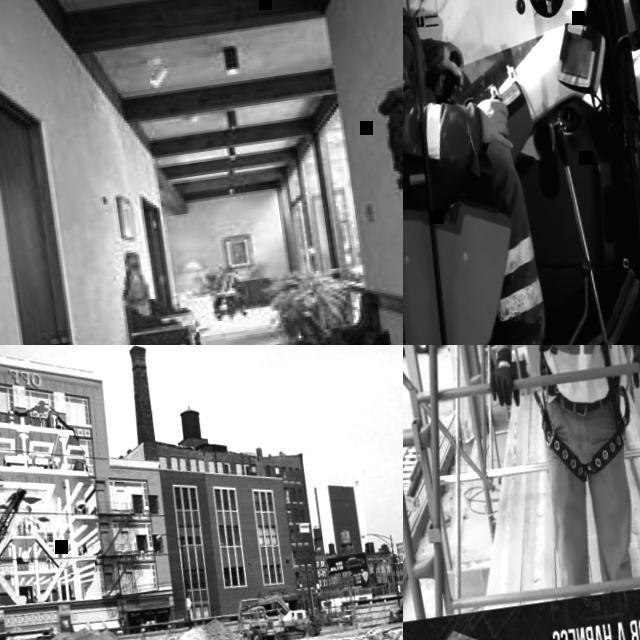vest: (403, 0, 449, 177), (514, 345, 634, 404)
